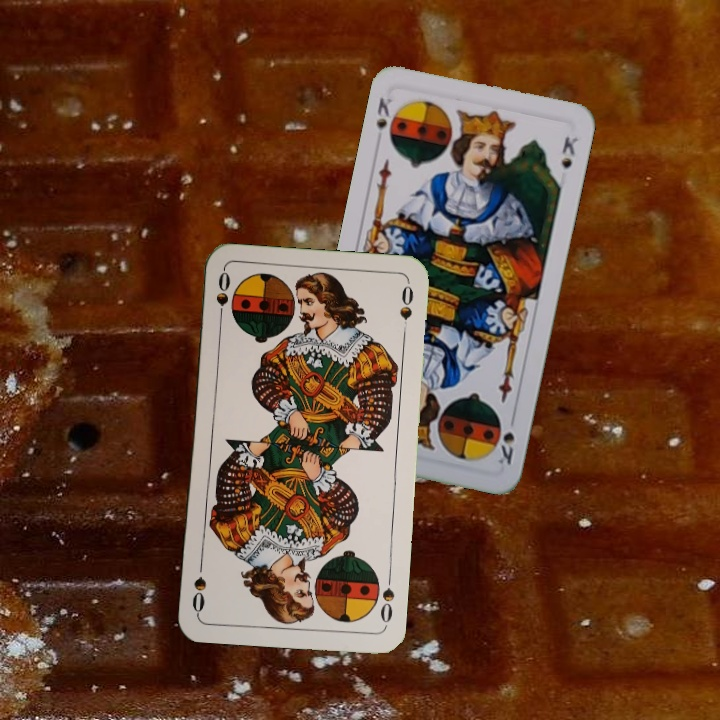SK: (372, 93, 400, 146), (493, 428, 518, 468)
SO: (211, 268, 233, 327), (376, 570, 397, 629)
